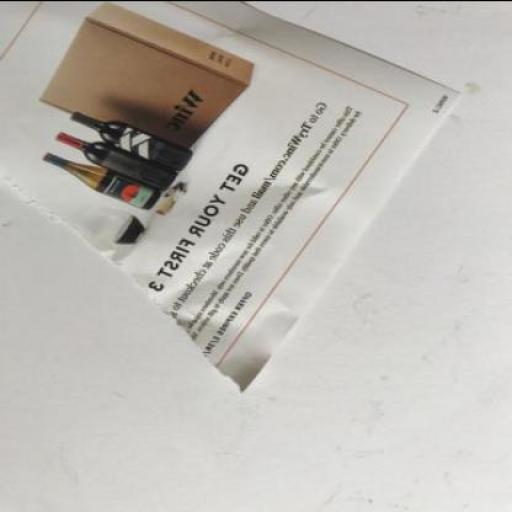paper: (1, 1, 463, 392)
